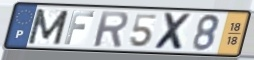5: (127, 12, 159, 48)
8: (191, 13, 221, 53)
F: (62, 10, 97, 46)
M: (25, 8, 71, 47)
R: (92, 10, 130, 49)
X: (152, 11, 195, 52)
